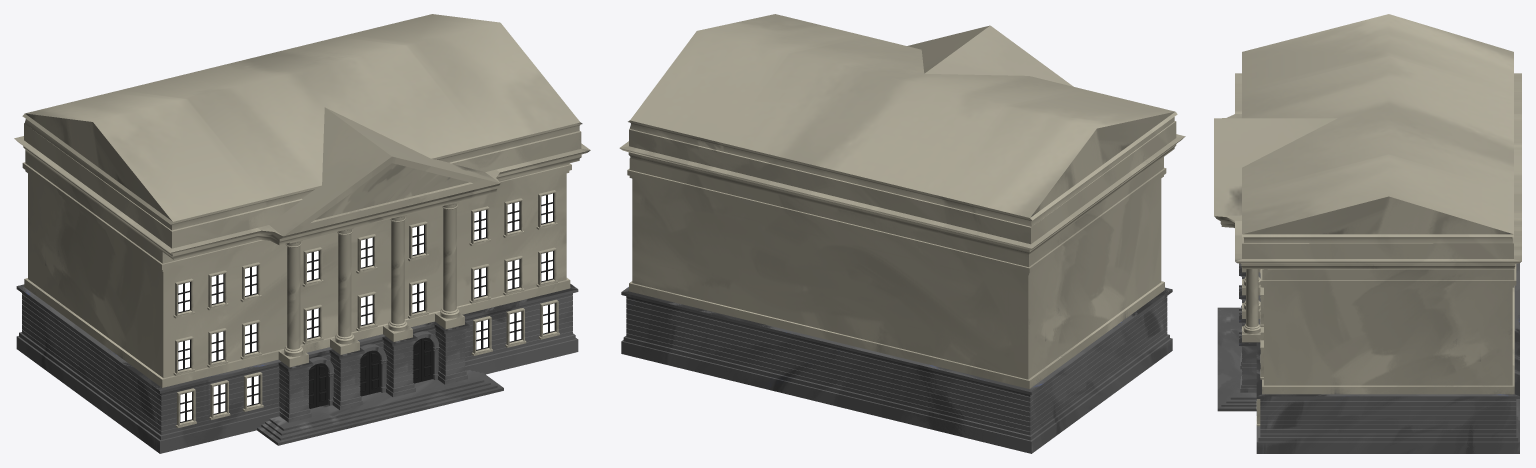
The model's file is utrecht_stadhuiscity_hall.glb.
3 views of the same model, side by side, from view 1: azimuth 30°, elevation 25°; view 2: azimuth 150°, elevation 25°; view 3: azimuth 270°, elevation 25° (orthographic). The views are drawn at different scales.
Parts seen in each view (by area): view 1: Stadhuis; view 2: Stadhuis; view 3: Stadhuis.
Part boxes in pixels (x1,y1,x2,y2): Stadhuis: [14, 14, 590, 453]; Stadhuis: [619, 14, 1185, 453]; Stadhuis: [1214, 14, 1521, 453].
Bounding box in the file's own units: 25.14 × 15.88 × 17.38.
Materials: 1 (1 with a texture image).
